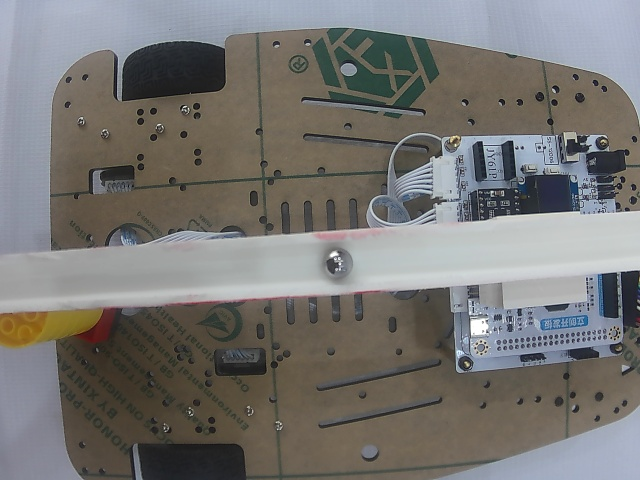steelball: (323, 248, 352, 277)
